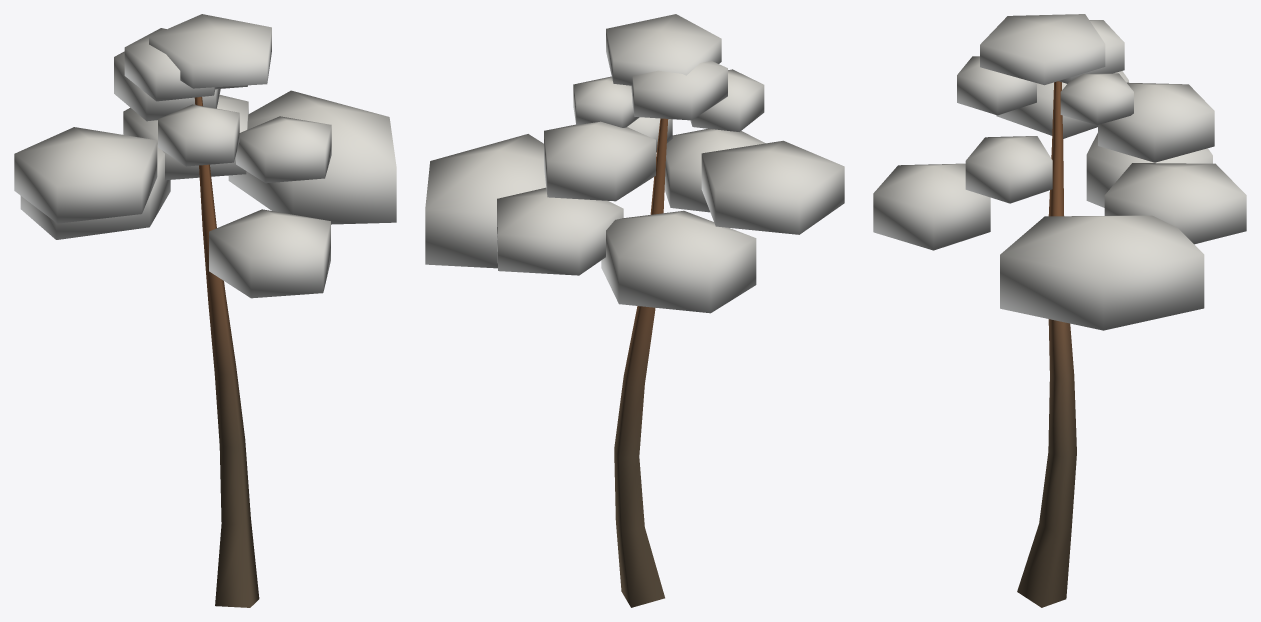
3 views of the same model, side by side, from view 1: azimuth 30°, elevation 25°; view 2: azimuth 150°, elevation 25°; view 3: azimuth 270°, elevation 25° (orthographic). The views are drawn at different scales.
Parts seen in each view (by area): view 1: crown, trunk; view 2: crown, trunk; view 3: crown, trunk.
Boxes of the visible parts, x1,y1,x2,y2 form: crown: (14,14,396,298); trunk: (194,97,259,607); crown: (425,14,844,313); trunk: (614,118,668,607); crown: (873,14,1246,330); trunk: (1017,81,1076,607).
Size of the model in its own units: 11.46 by 16.92 by 10.13.
